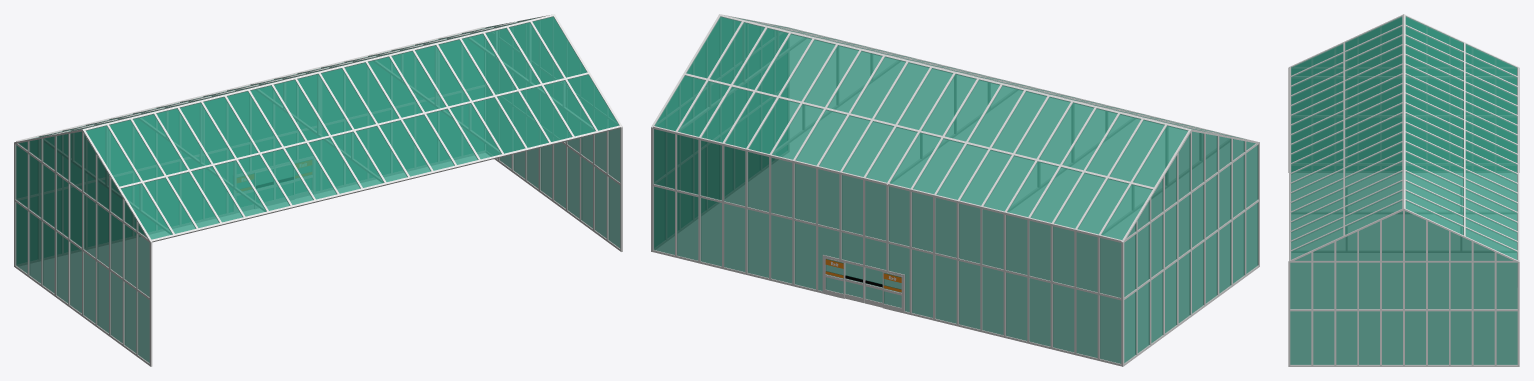
The model's file is GardenCenterWalls_02.fbx.
3 views of the same model, side by side, from view 1: azimuth 30°, elevation 25°; view 2: azimuth 150°, elevation 25°; view 3: azimuth 270°, elevation 25° (orthographic). The views are drawn at different scales.
Visible parts, largest first — view 1: GardenCenterWalls_02; view 2: GardenCenterWalls_02; view 3: GardenCenterWalls_02.
Part boxes in pixels (<box>): GardenCenterWalls_02: <box>14,14,622,366</box>; GardenCenterWalls_02: <box>651,14,1259,366</box>; GardenCenterWalls_02: <box>1288,14,1519,366</box>.
Size of the model in its own units: 40.2 by 15.25 by 20.17.
